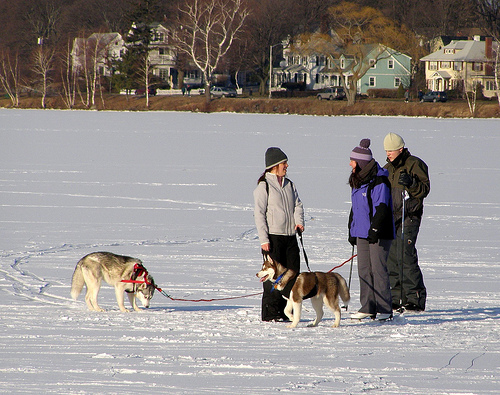dog: (257, 257, 350, 328), (65, 250, 158, 313)
